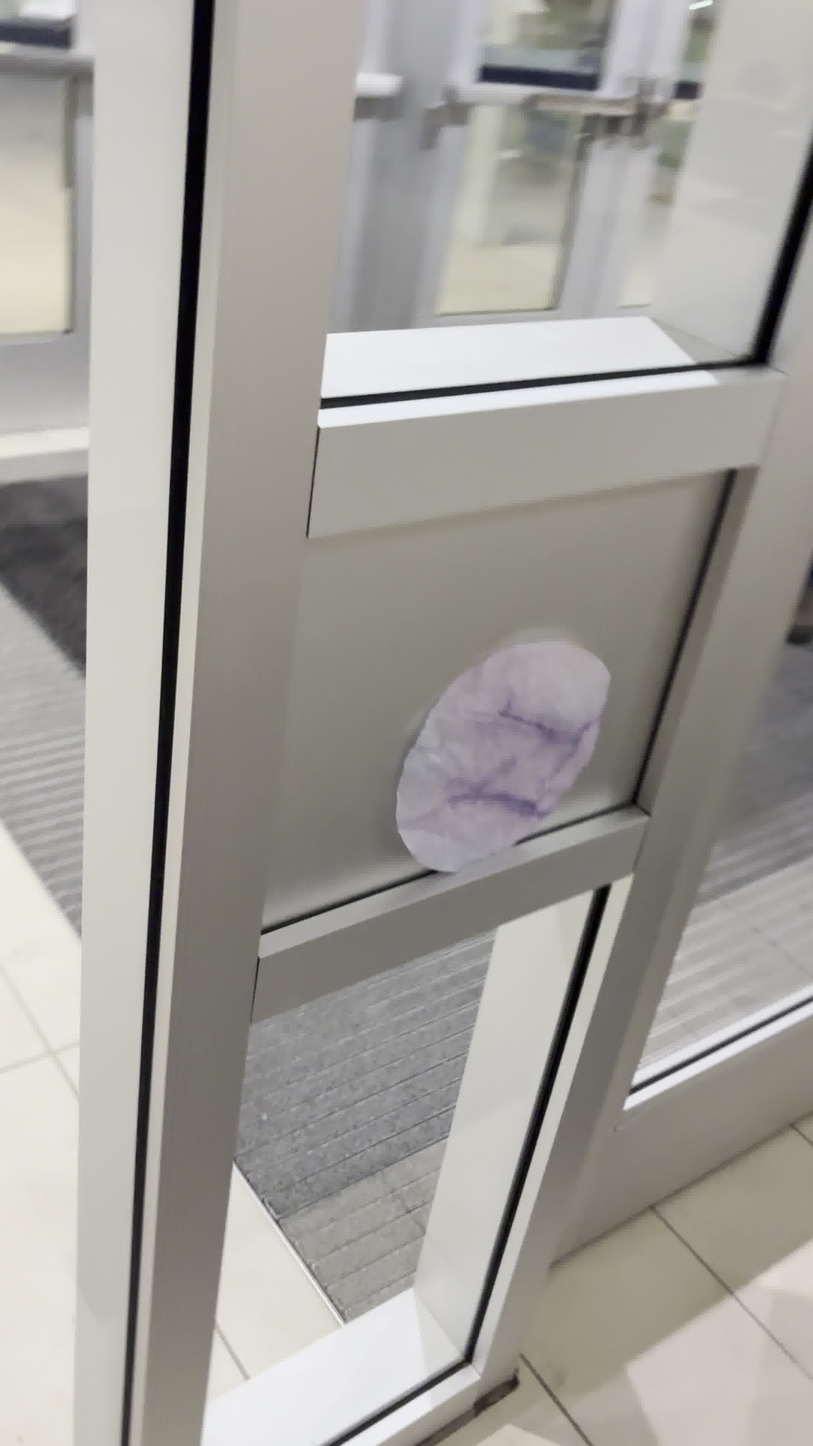Target: (395, 645, 623, 880)
